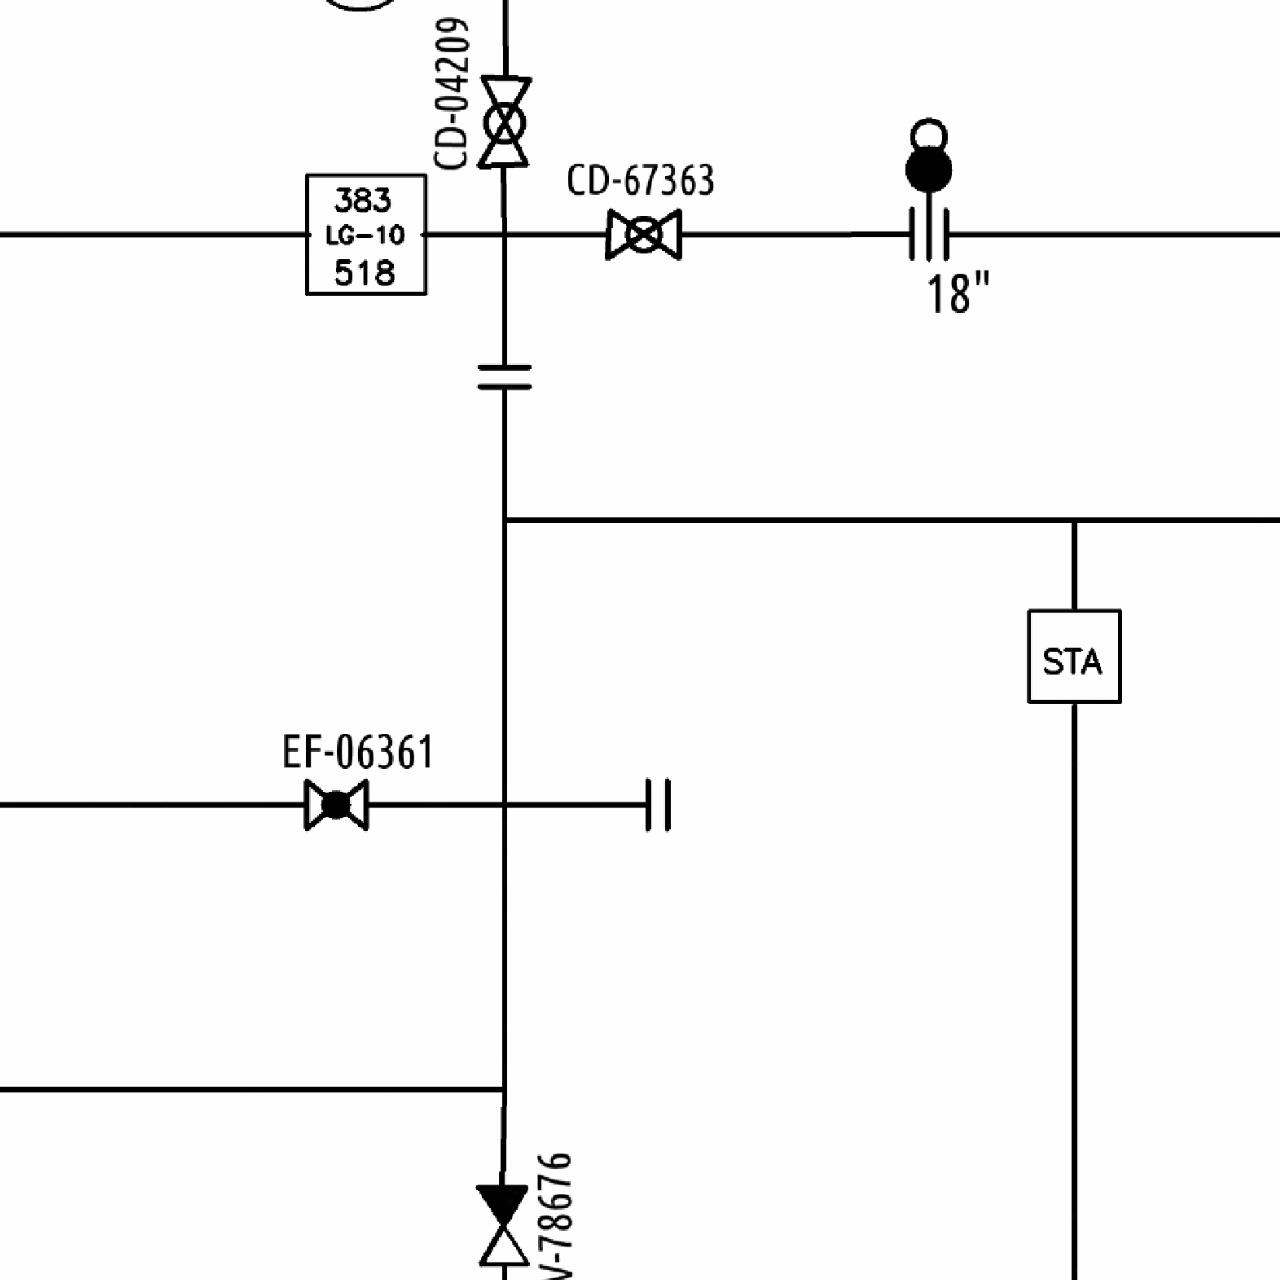Half closed valve: (471, 1180, 533, 1269)
